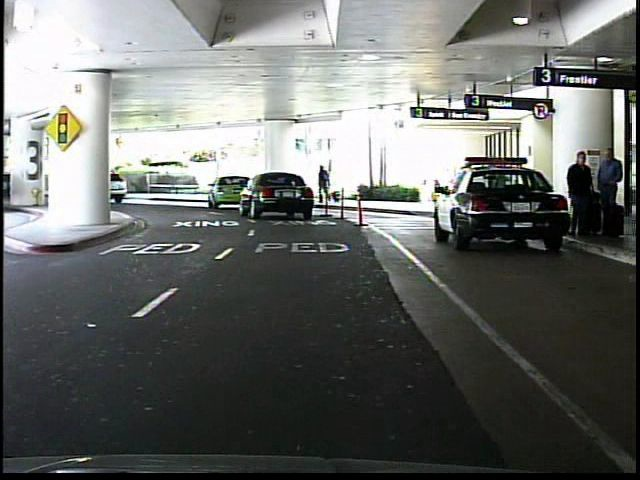person: (564, 148, 595, 250), (593, 144, 624, 244), (318, 162, 336, 206)
